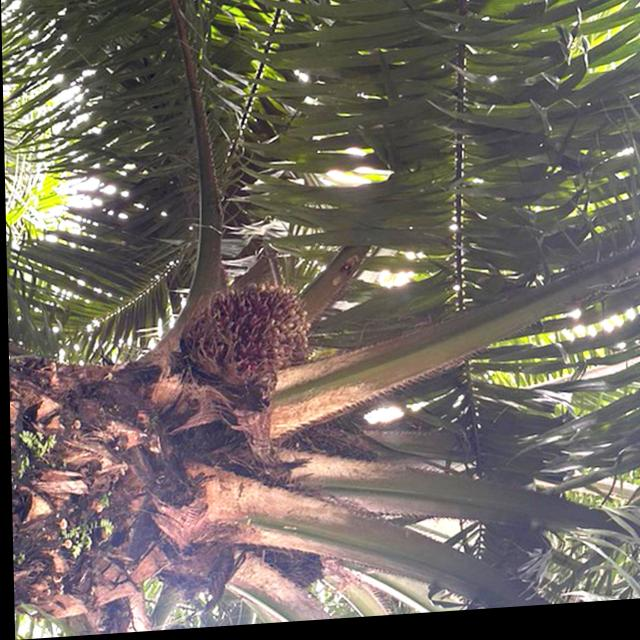ripe: (169, 274, 318, 397)
